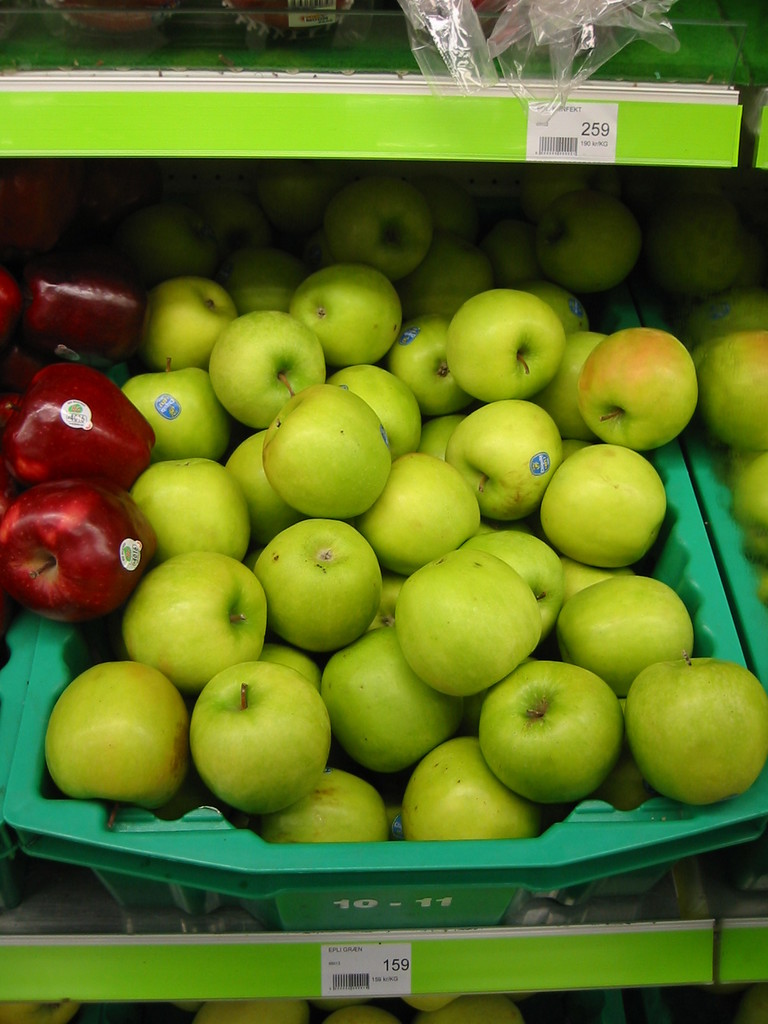Apple: (0, 163, 767, 840), (188, 651, 346, 821), (0, 993, 533, 1023), (44, 0, 179, 42), (219, 0, 348, 36)
